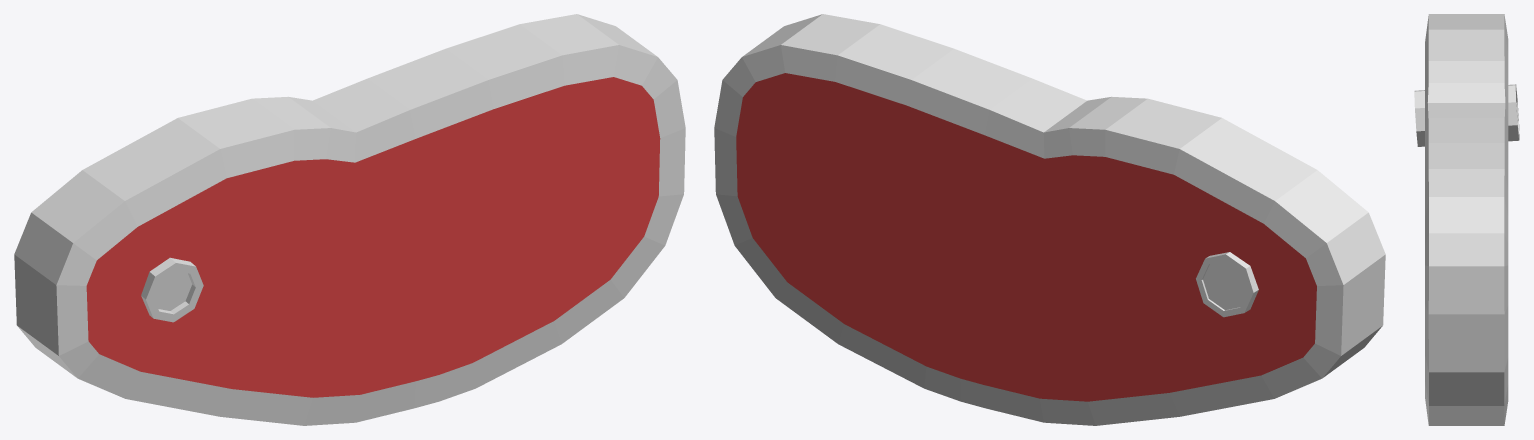
The model's file is Filetecarne.fbx.
3 views of the same model, side by side, from view 1: azimuth 30°, elevation 25°; view 2: azimuth 150°, elevation 25°; view 3: azimuth 270°, elevation 25° (orthographic). The views are drawn at different scales.
Visible parts, largest first — view 1: Filete_de_carne; view 2: Filete_de_carne; view 3: Filete_de_carne.
Part boxes in pixels (x1,y1,x2,y2): Filete_de_carne: [14, 14, 685, 425]; Filete_de_carne: [714, 14, 1385, 425]; Filete_de_carne: [1414, 14, 1519, 425].
Size of the model in its own units: 11357 by 5469 by 1852.
